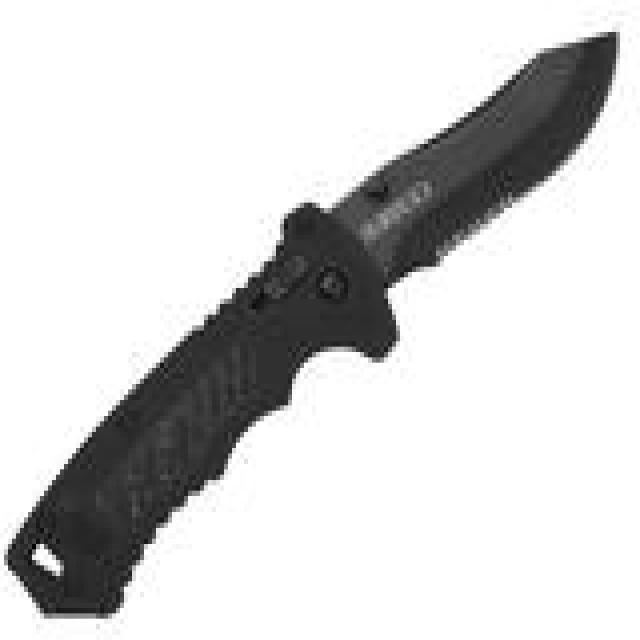Knife: (1, 21, 622, 633)
